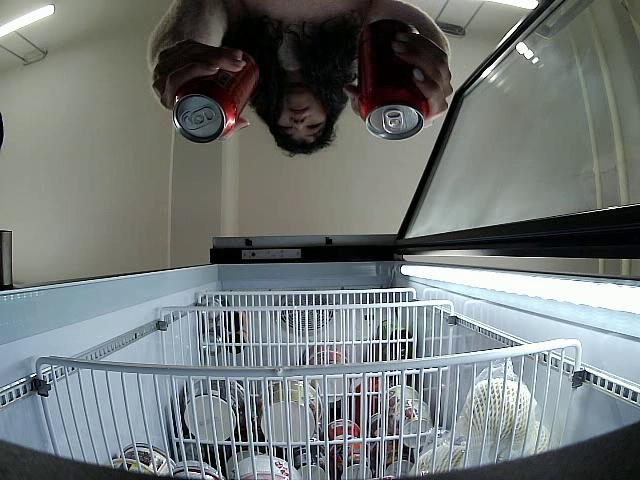00_hand: (342, 27, 453, 123), (152, 41, 251, 142)
11_cocaColaZero: (354, 14, 430, 140), (169, 53, 262, 145)
